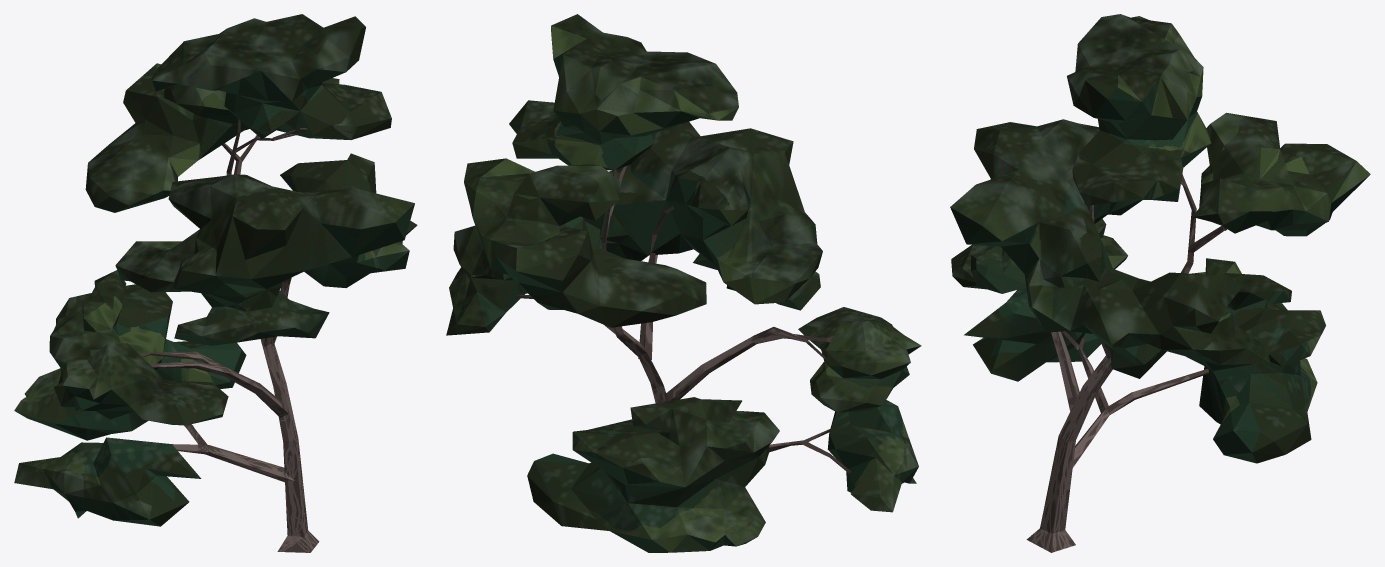
3 renders of one model, left to right at view 1: azimuth 30°, elevation 25°; view 2: azimuth 150°, elevation 25°; view 3: azimuth 270°, elevation 25°, orthographic. The views are drawn at different scales.
Visible parts, largest first — view 1: tree; view 2: tree; view 3: tree.
Part boxes in pixels (x1,y1,x2,y2): tree: (14, 14, 417, 552); tree: (446, 14, 921, 552); tree: (950, 14, 1370, 552).
Bounding box in the file's own units: 1286 × 1518 × 1148.
1 material, 1 textured.
